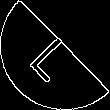L_NE: (26, 26, 84, 84)
